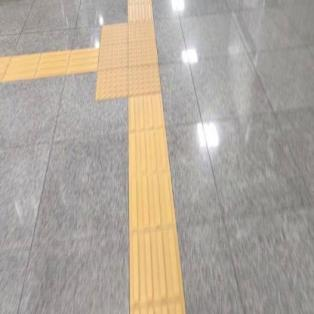Podoctatil: (128, 98, 188, 314), (84, 9, 182, 119), (0, 46, 97, 83), (127, 0, 152, 17)
